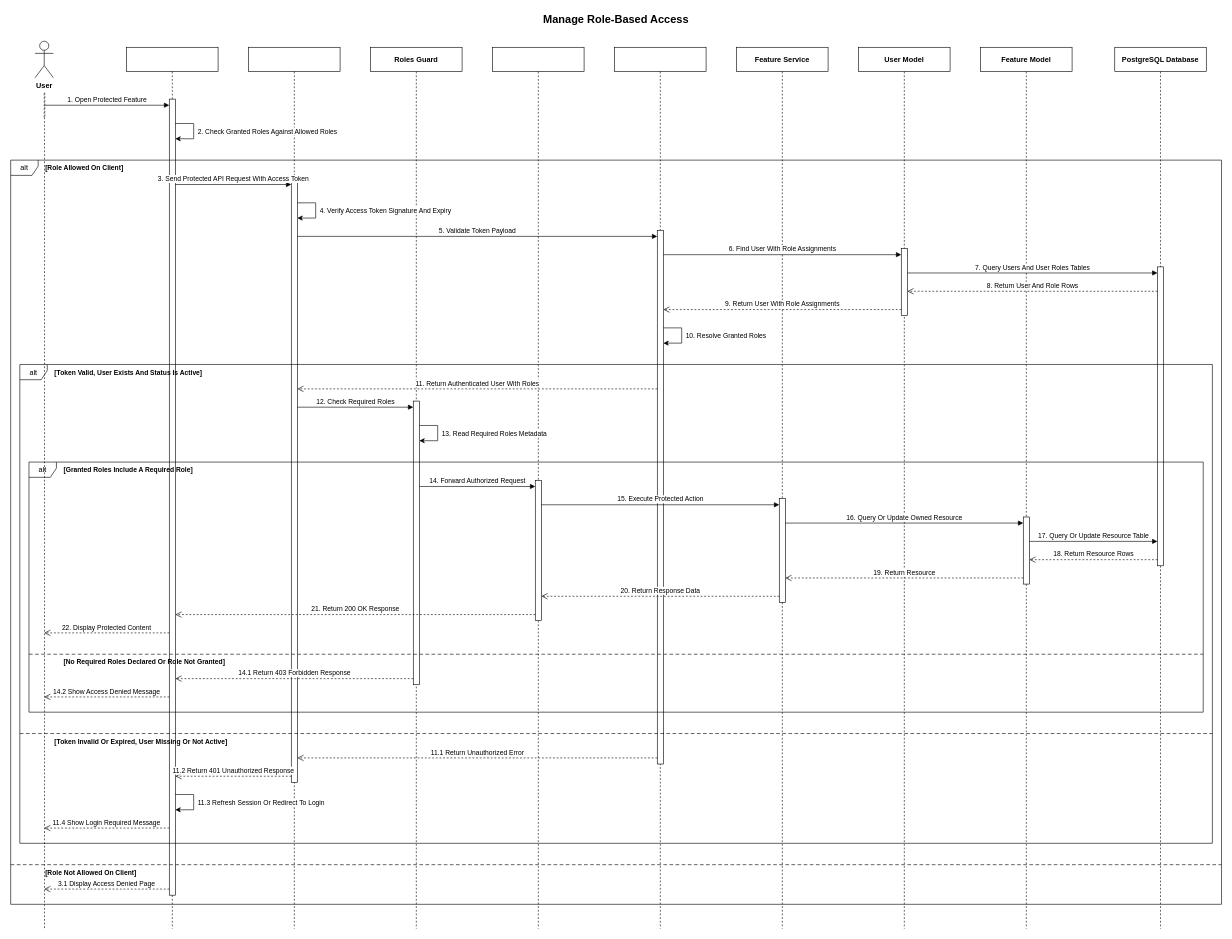
Image size: 1232x939. Some labels were removed from this diagram. Each missing label, with the box of its shape:
Feature Controller: (492, 47, 584, 929)
Jwt Auth Guard: (248, 47, 340, 929)
Jwt Strategy: (614, 47, 706, 929)
Protected Feature Screen: (126, 47, 218, 929)
